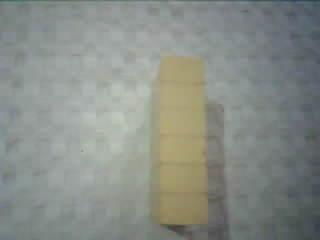lego: (148, 50, 209, 225)
